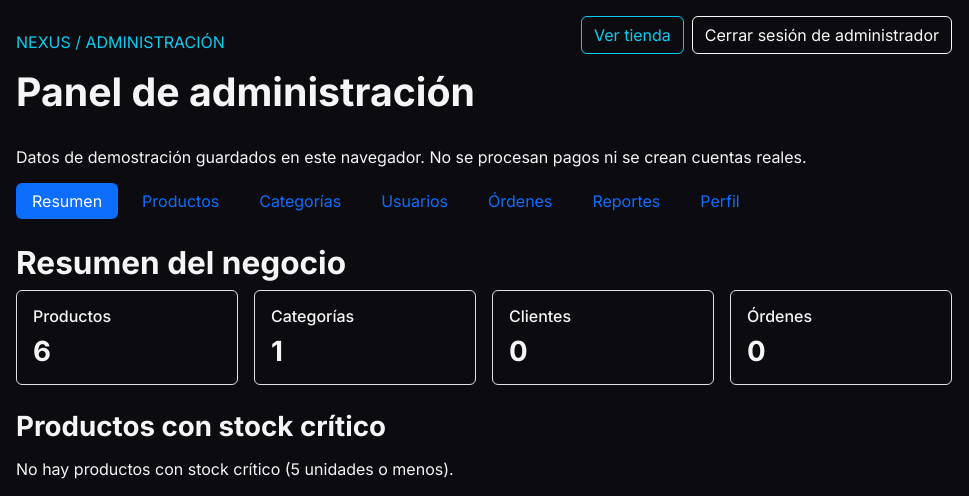
Test: Página Admin › ofrece reportes de inventario, órdenes vacías y perfil sin simular ventas
Step 1. Click the link "Reportes" → (626, 201), box [592,191,660,211]
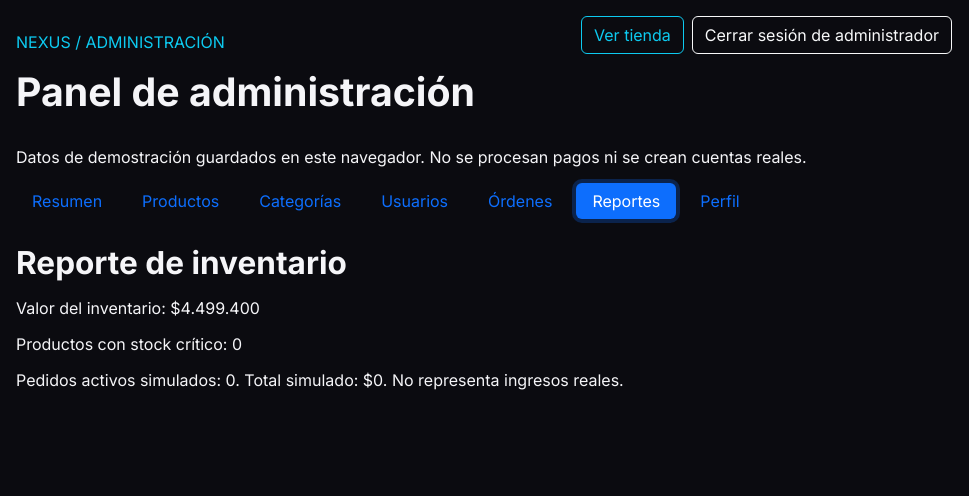
Expected: the heading "Reporte de inventario" is shown, [16,243,347,282]
Step 2. Click the link "Órdenes" → (520, 201), box [488,191,552,211]
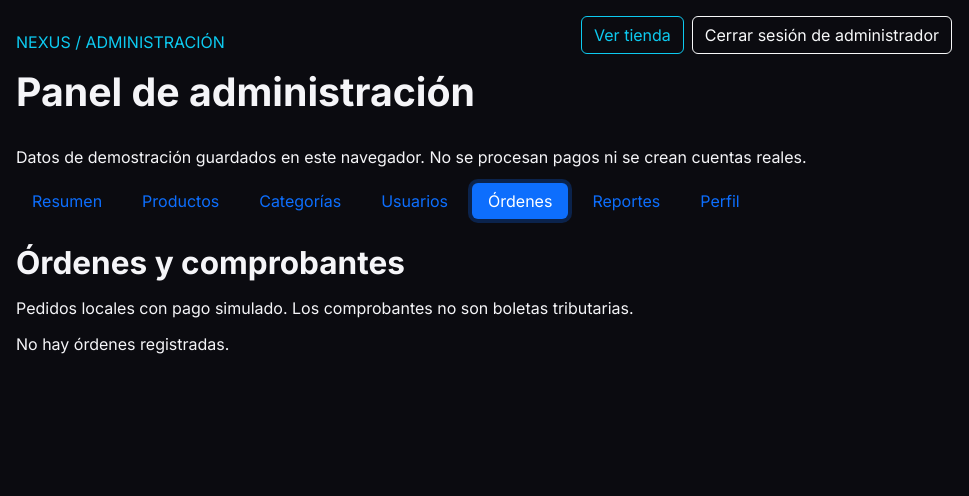
Expected: the text "No hay órdenes registradas." is shown, [16,334,229,354]
Step 3. Click the link "Perfil" → (720, 201), box [700,191,740,211]
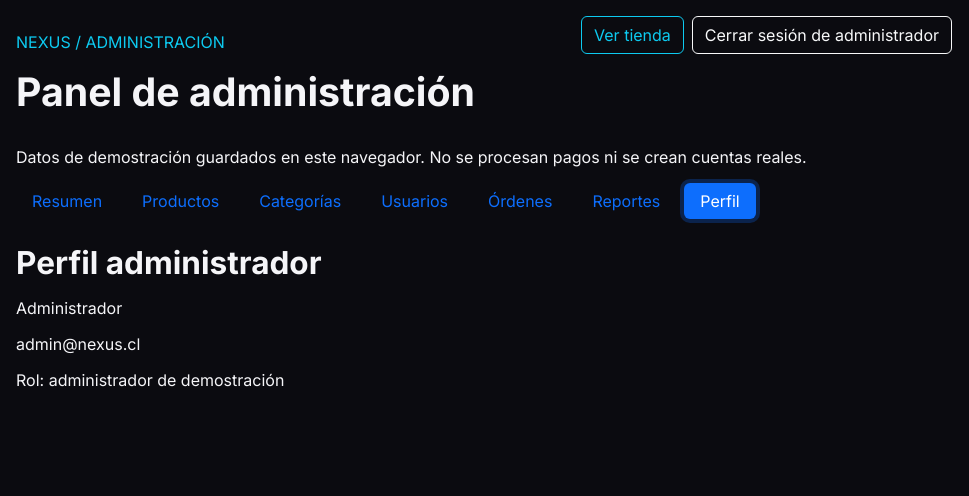
Expected: the heading "Perfil administrador" is shown, [16,243,322,282]
